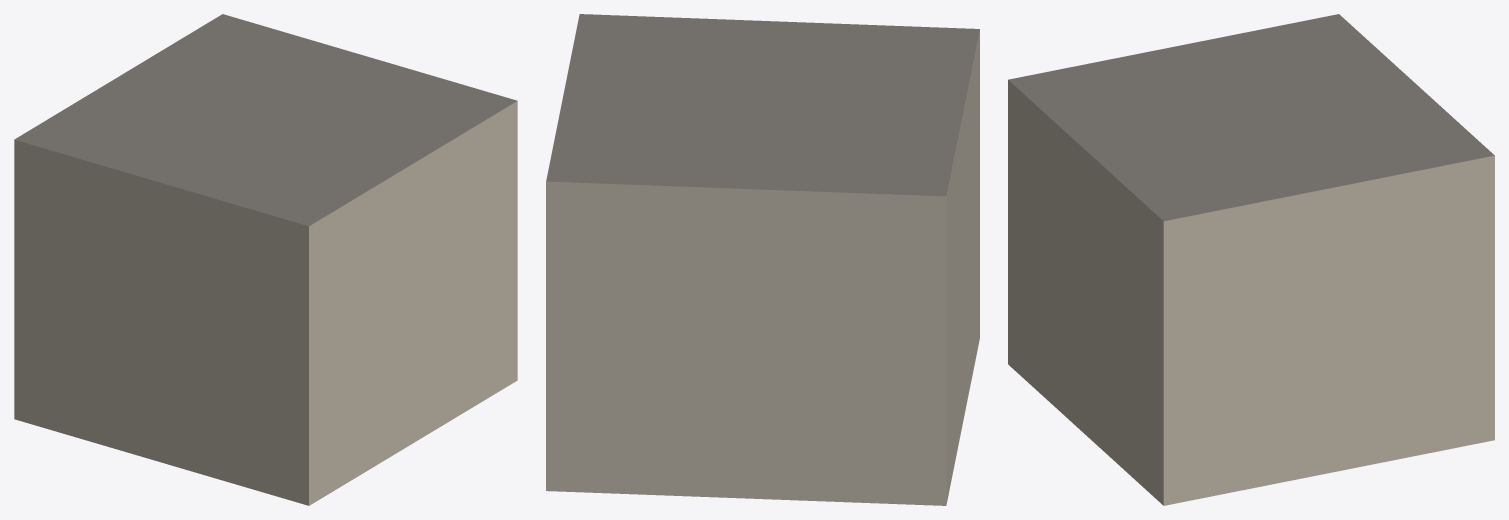
The picture shows the model from 3 angles, left to right: view 1: azimuth 30°, elevation 25°; view 2: azimuth 150°, elevation 25°; view 3: azimuth 270°, elevation 25°; orthographic projection. The views are drawn at different scales.
Visible parts, largest first — view 1: HP-w1286965206; view 2: HP-w1286965206; view 3: HP-w1286965206.
Boxes of the visible parts, left/top/right/bottom form: HP-w1286965206: left=14, top=14, right=517, bottom=505; HP-w1286965206: left=546, top=14, right=979, bottom=505; HP-w1286965206: left=1008, top=14, right=1494, bottom=505.
Bounding box in the file's own units: 28.12 × 18 × 27.91.
